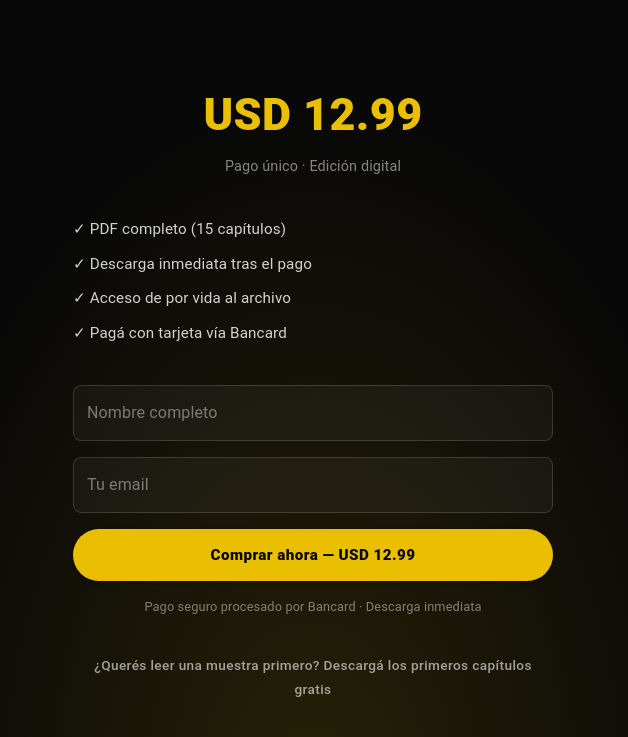
Test: LibroCompra › si la API retorna processId → oculta el formulario y muestra el contenedor del iframe de Bancard
Type "Juan Pérez" into the field with placeholder "Nombre completo" at coordinates (313, 413), box [73, 385, 553, 441]
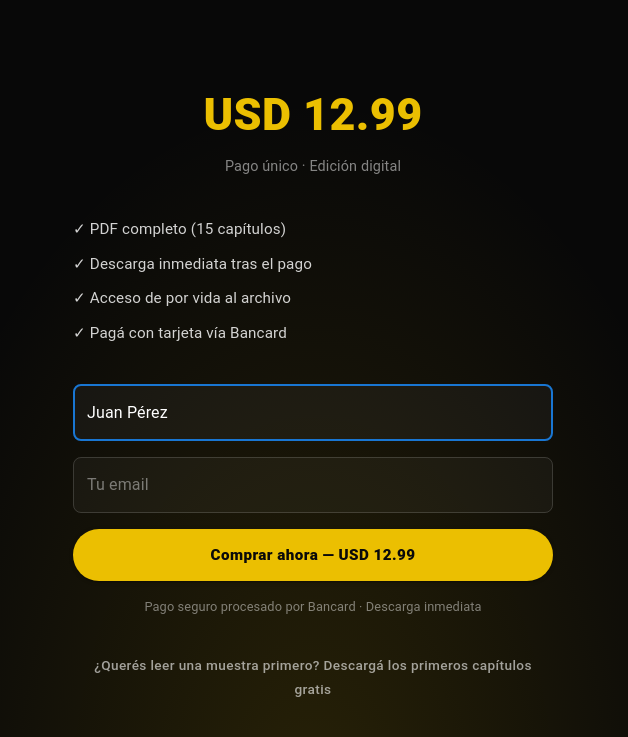
Type "juan@test.com" into the field with placeholder "Tu email" at coordinates (313, 485), box [73, 457, 553, 513]
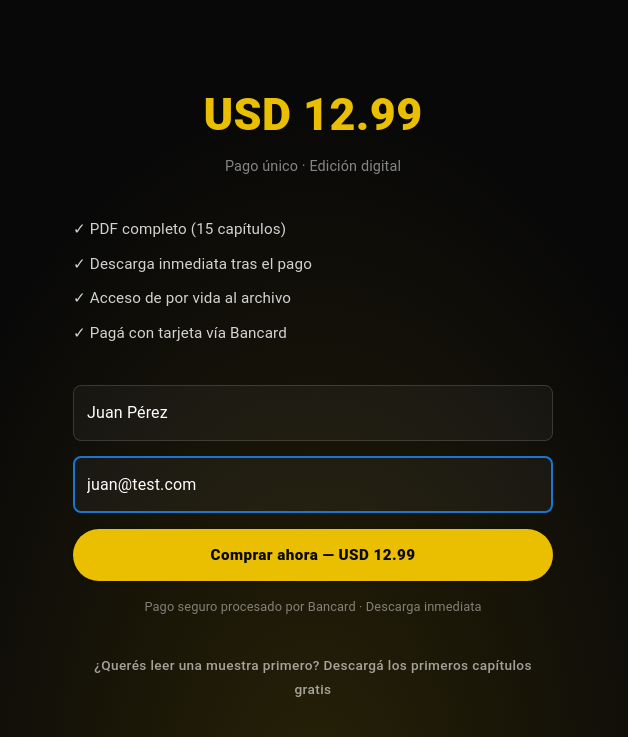
Click the button "Comprar ahora — USD 12.99" at coordinates (313, 555), box [73, 529, 553, 581]
(page scrolled)
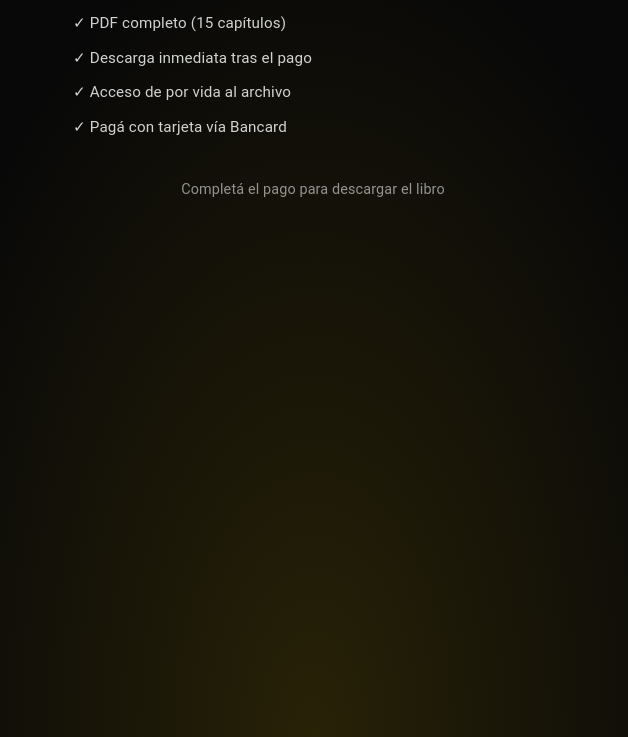
expect the field with placeholder "Tu email" is gone: met
